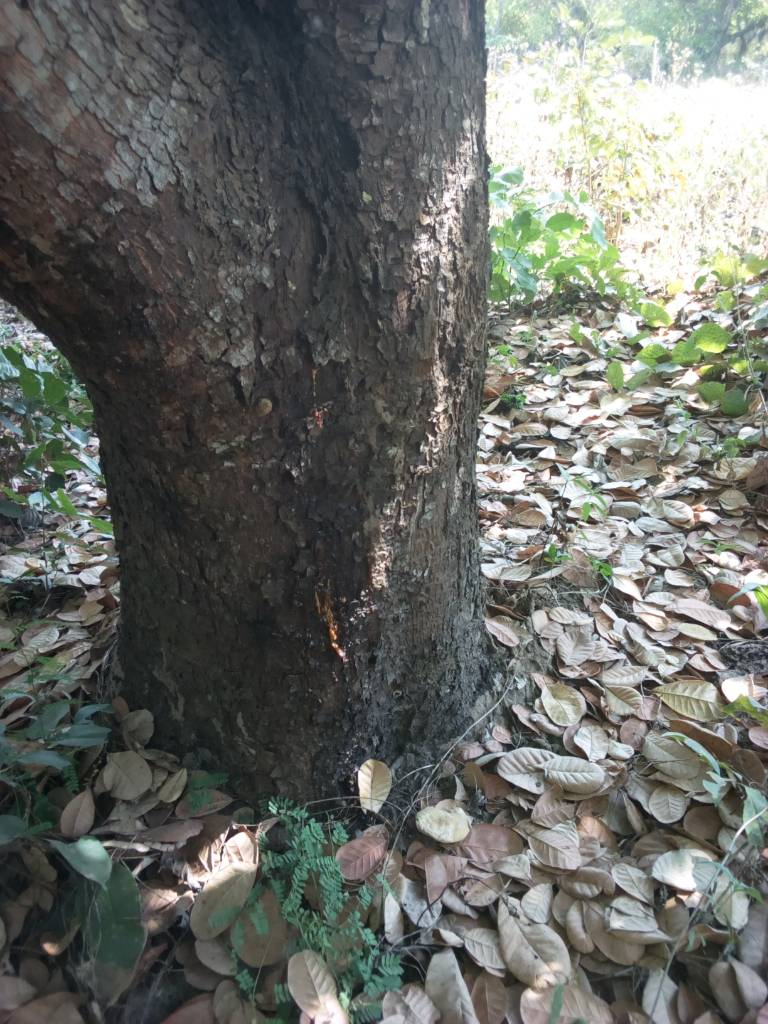Gommose: (233, 386, 422, 775)
